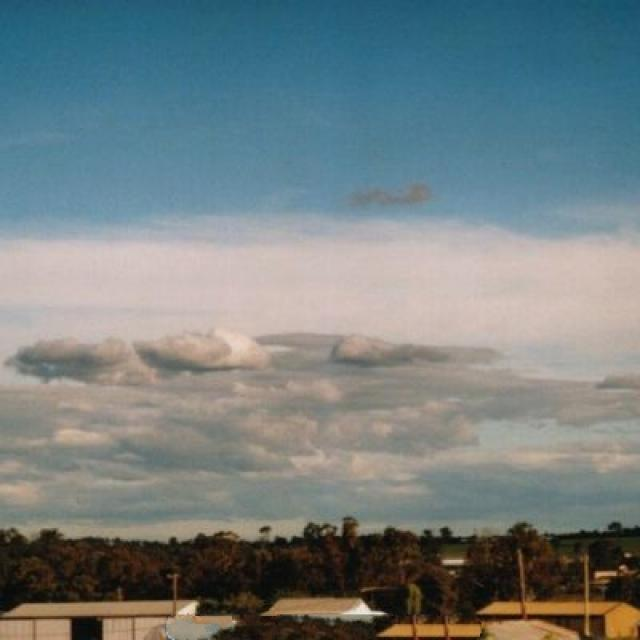Cs: (1, 89, 640, 489)
